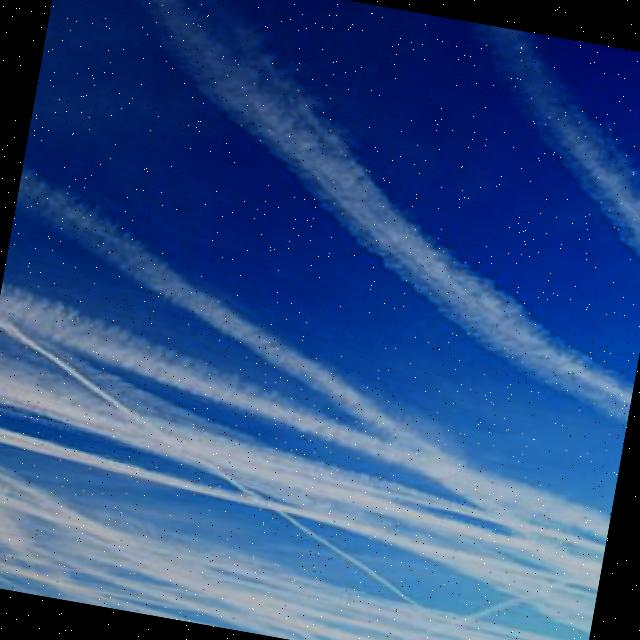Ct: (1, 1, 640, 619)
